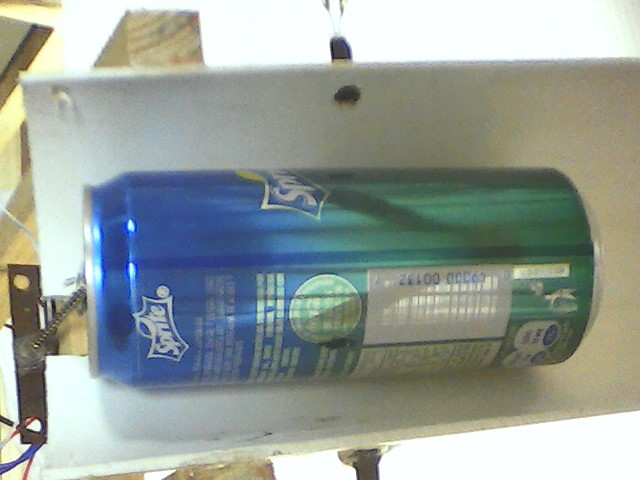lata: (79, 163, 609, 395)
